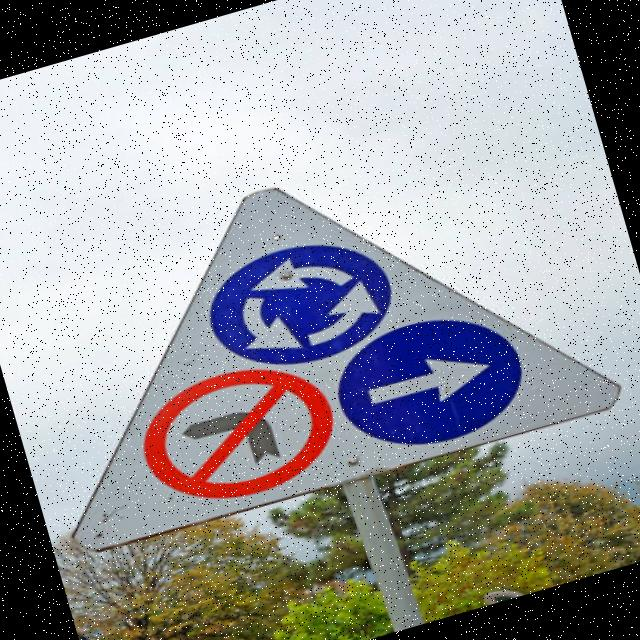round_about: (190, 219, 408, 386)
